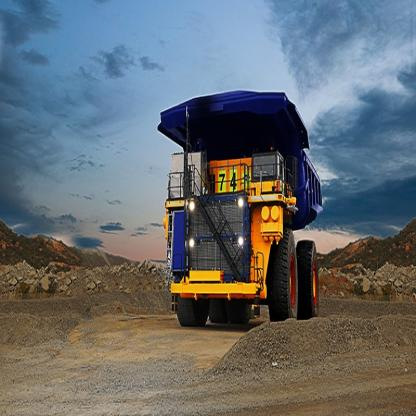dump_truck: (146, 80, 337, 335)
